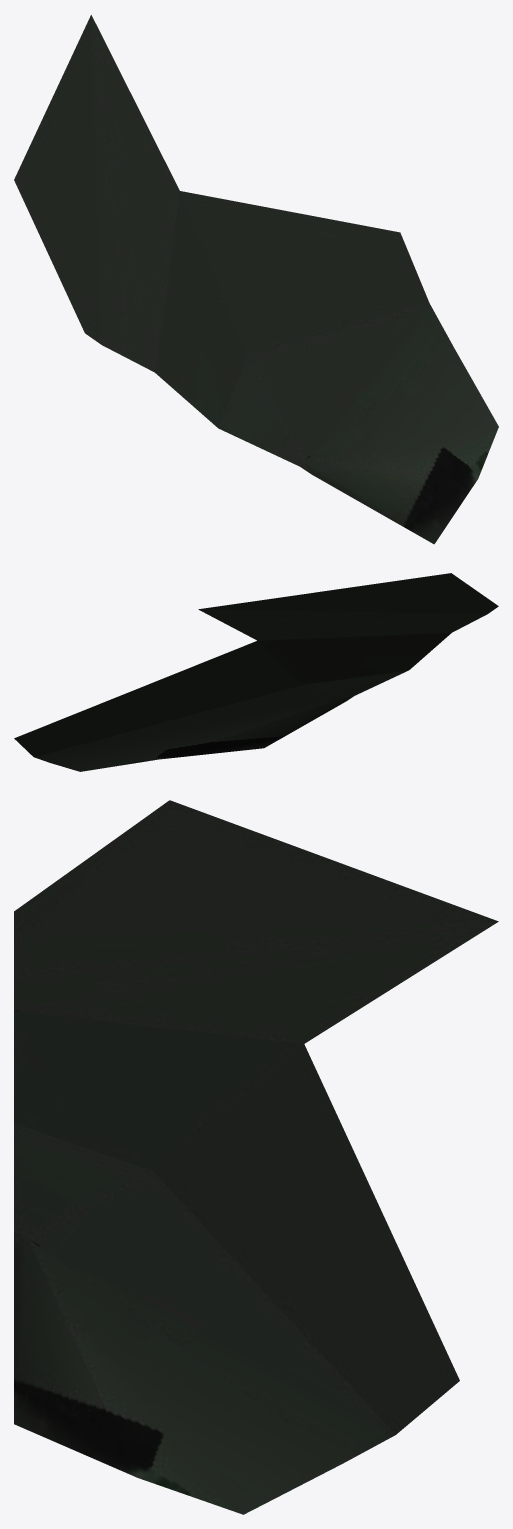
3 views of the same model, one above another, from view 1: azimuth 30°, elevation 25°; view 2: azimuth 150°, elevation 25°; view 3: azimuth 270°, elevation 25° (orthographic). The views are drawn at different scales.
Size of the model in its own units: 5.9 by 4.33 by 4.35.
Materials: 2 (2 with a texture image).
